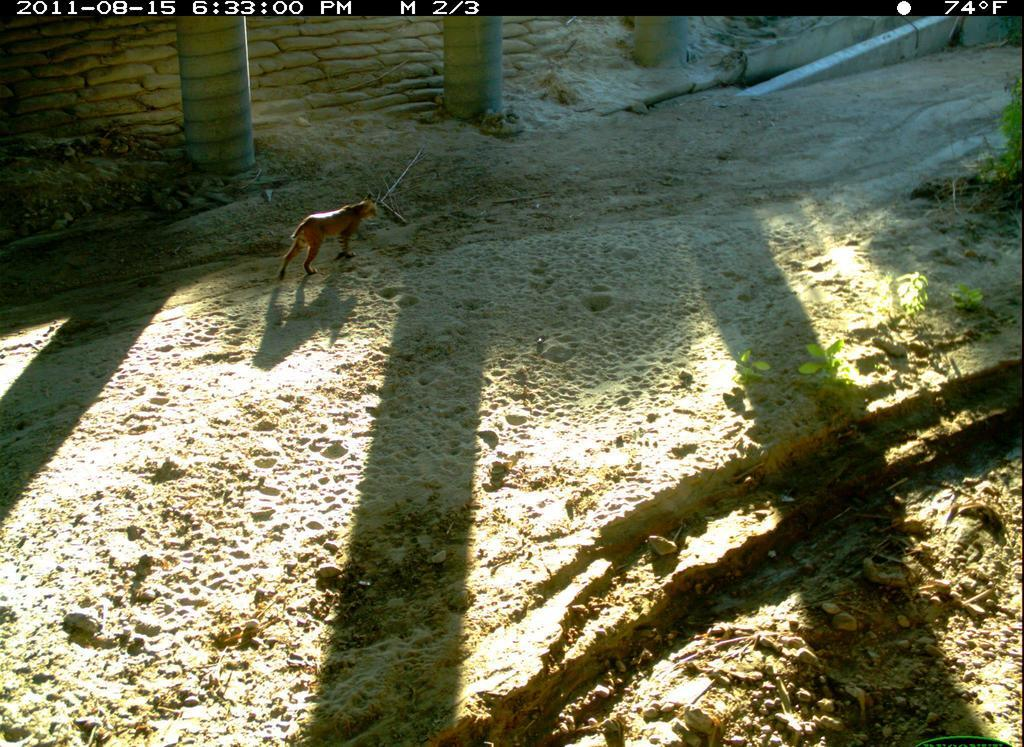bobcat: (275, 191, 381, 283)
